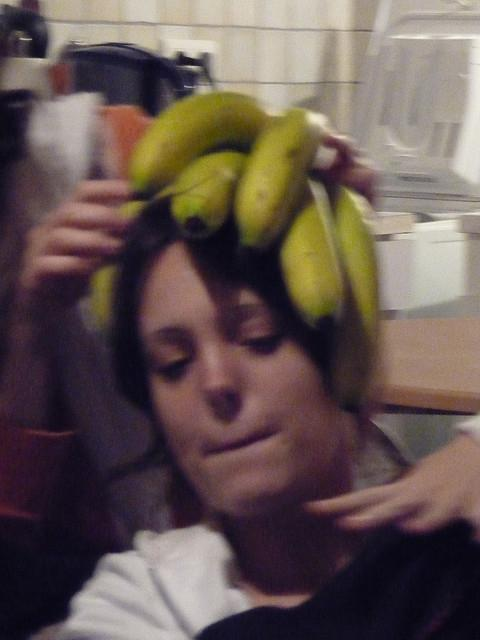banana: (131, 94, 268, 202), (234, 109, 324, 255), (324, 184, 379, 414), (277, 177, 346, 331), (170, 150, 250, 240), (91, 262, 122, 324)
